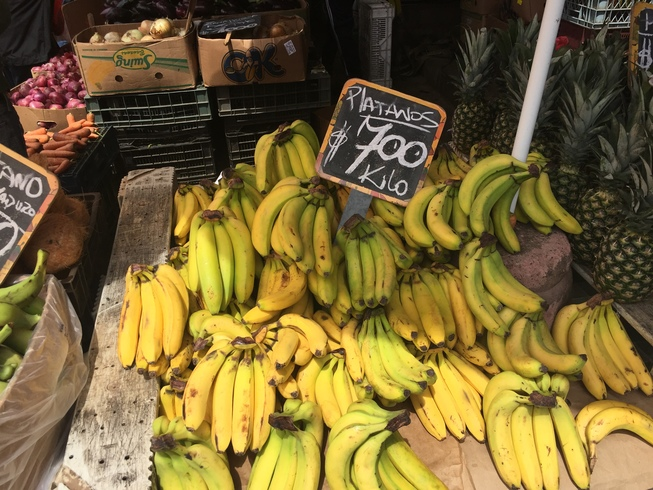precio: (307, 72, 450, 210)
